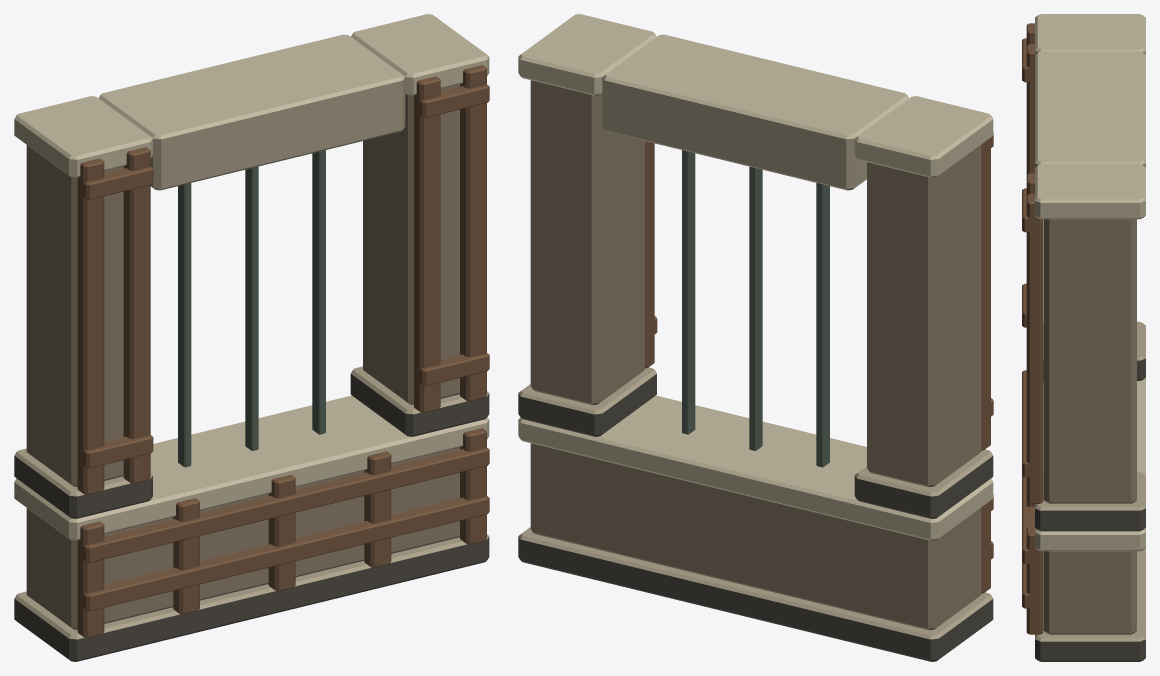
Rendered from wall-window.glb.
3 views of the same model, side by side, from view 1: azimuth 30°, elevation 25°; view 2: azimuth 150°, elevation 25°; view 3: azimuth 270°, elevation 25° (orthographic). The views are drawn at different scales.
Visible parts, largest first — view 1: wall-window__body; view 2: wall-window__body; view 3: wall-window__body.
Boxes of the visible parts, left/top/right/bottom form: wall-window__body: left=14, top=14, right=489, bottom=661; wall-window__body: left=518, top=14, right=993, bottom=661; wall-window__body: left=1022, top=14, right=1145, bottom=661.
Bounding box in the file's own units: 2 × 2.3 × 0.5575.
